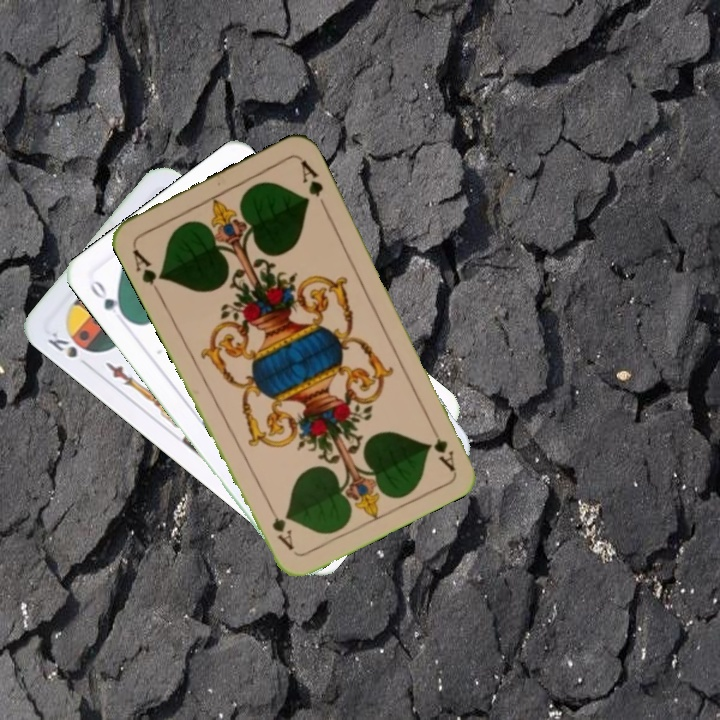GA: (128, 242, 167, 297), (424, 417, 457, 473)
GO: (85, 274, 131, 323)
SK: (43, 325, 80, 361)
